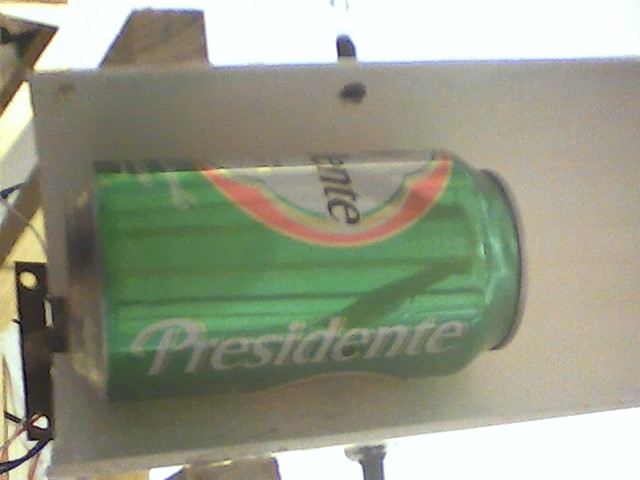lata: (56, 143, 544, 414)
